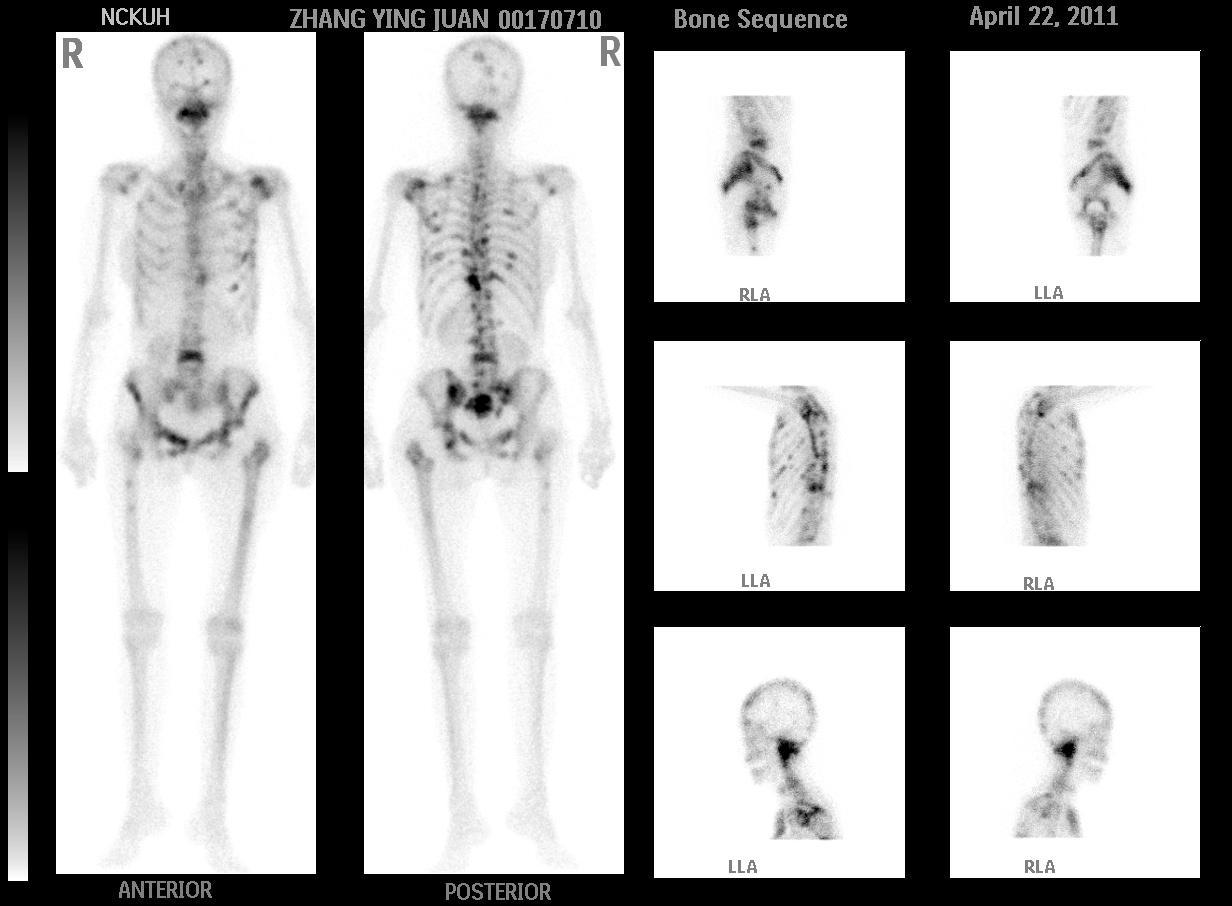person: (57, 32, 624, 876)
